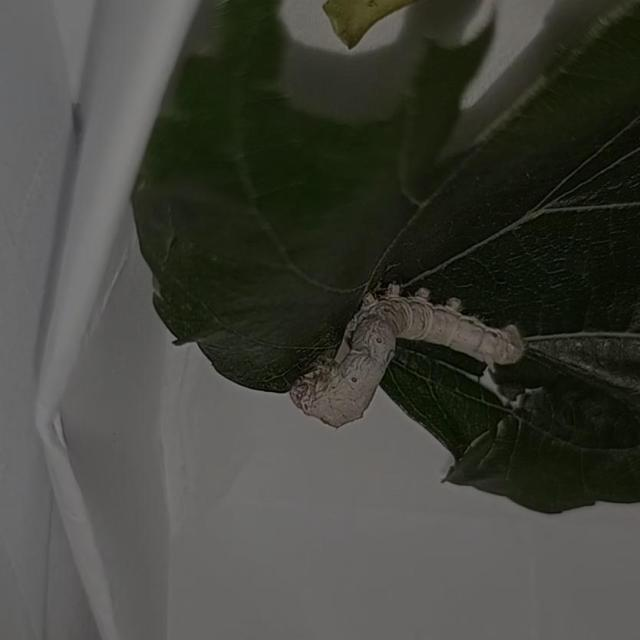Healthy: (284, 266, 535, 440)
